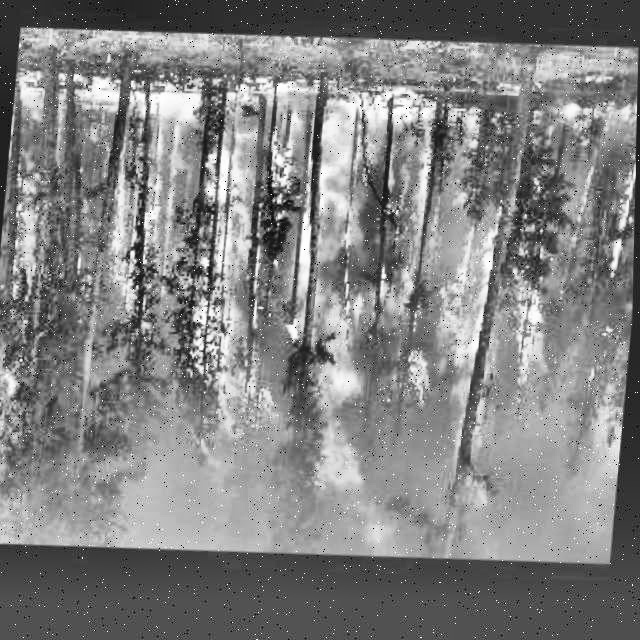Fire: (0, 56, 639, 570)
